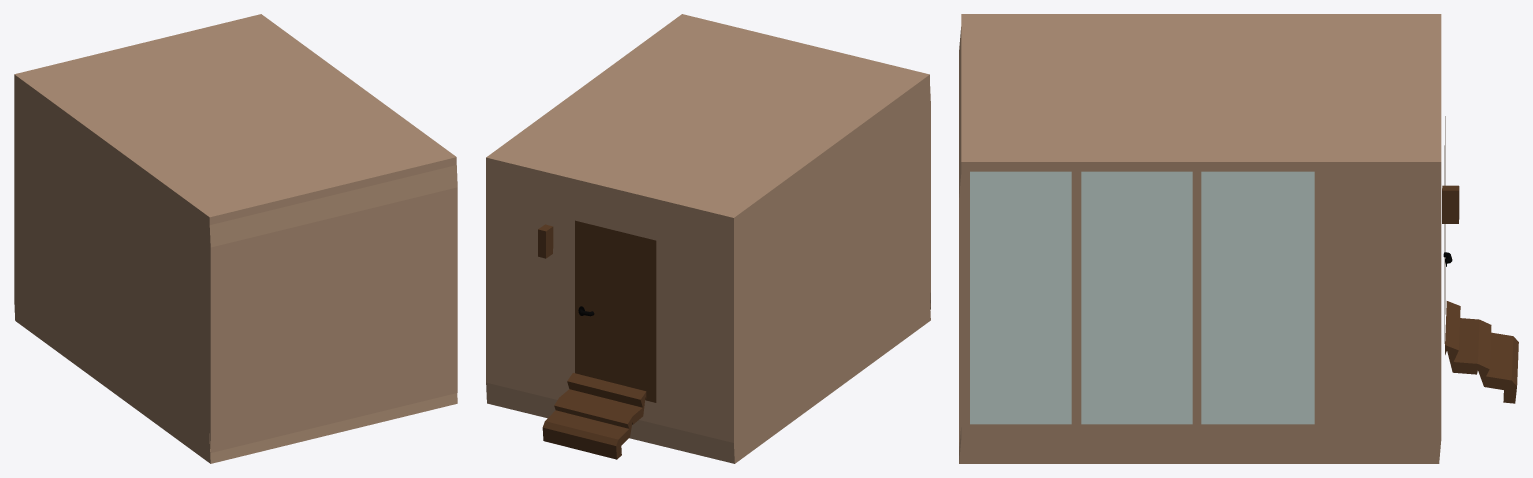
The model's file is tinyhouse3.fbx.
The picture shows the model from 3 angles, left to right: view 1: azimuth 30°, elevation 25°; view 2: azimuth 150°, elevation 25°; view 3: azimuth 270°, elevation 25°; orthographic projection. The views are drawn at different scales.
Visible parts, largest first — view 1: Cube; view 2: Cube, Cube.004, Cube.005, Cube.006; view 3: Cube, Cube.003, Cube.002, Cube.001, Cube.005, Cube.006.
Boxes of the visible parts, left/top/right/bottom form: Cube: left=14, top=14, right=457, bottom=463; Cube: left=486, top=14, right=930, bottom=463; Cube.004: left=575, top=220, right=656, bottom=402; Cube.005: left=542, top=373, right=646, bottom=459; Cube.006: left=538, top=224, right=553, bottom=258; Cube: left=959, top=14, right=1441, bottom=463; Cube.003: left=1201, top=171, right=1314, bottom=424; Cube.002: left=1081, top=171, right=1192, bottom=424; Cube.001: left=970, top=171, right=1071, bottom=424; Cube.005: left=1445, top=301, right=1518, bottom=403; Cube.006: left=1442, top=185, right=1459, bottom=223.
Bounding box in the file's own units: 453 × 431 × 725.
